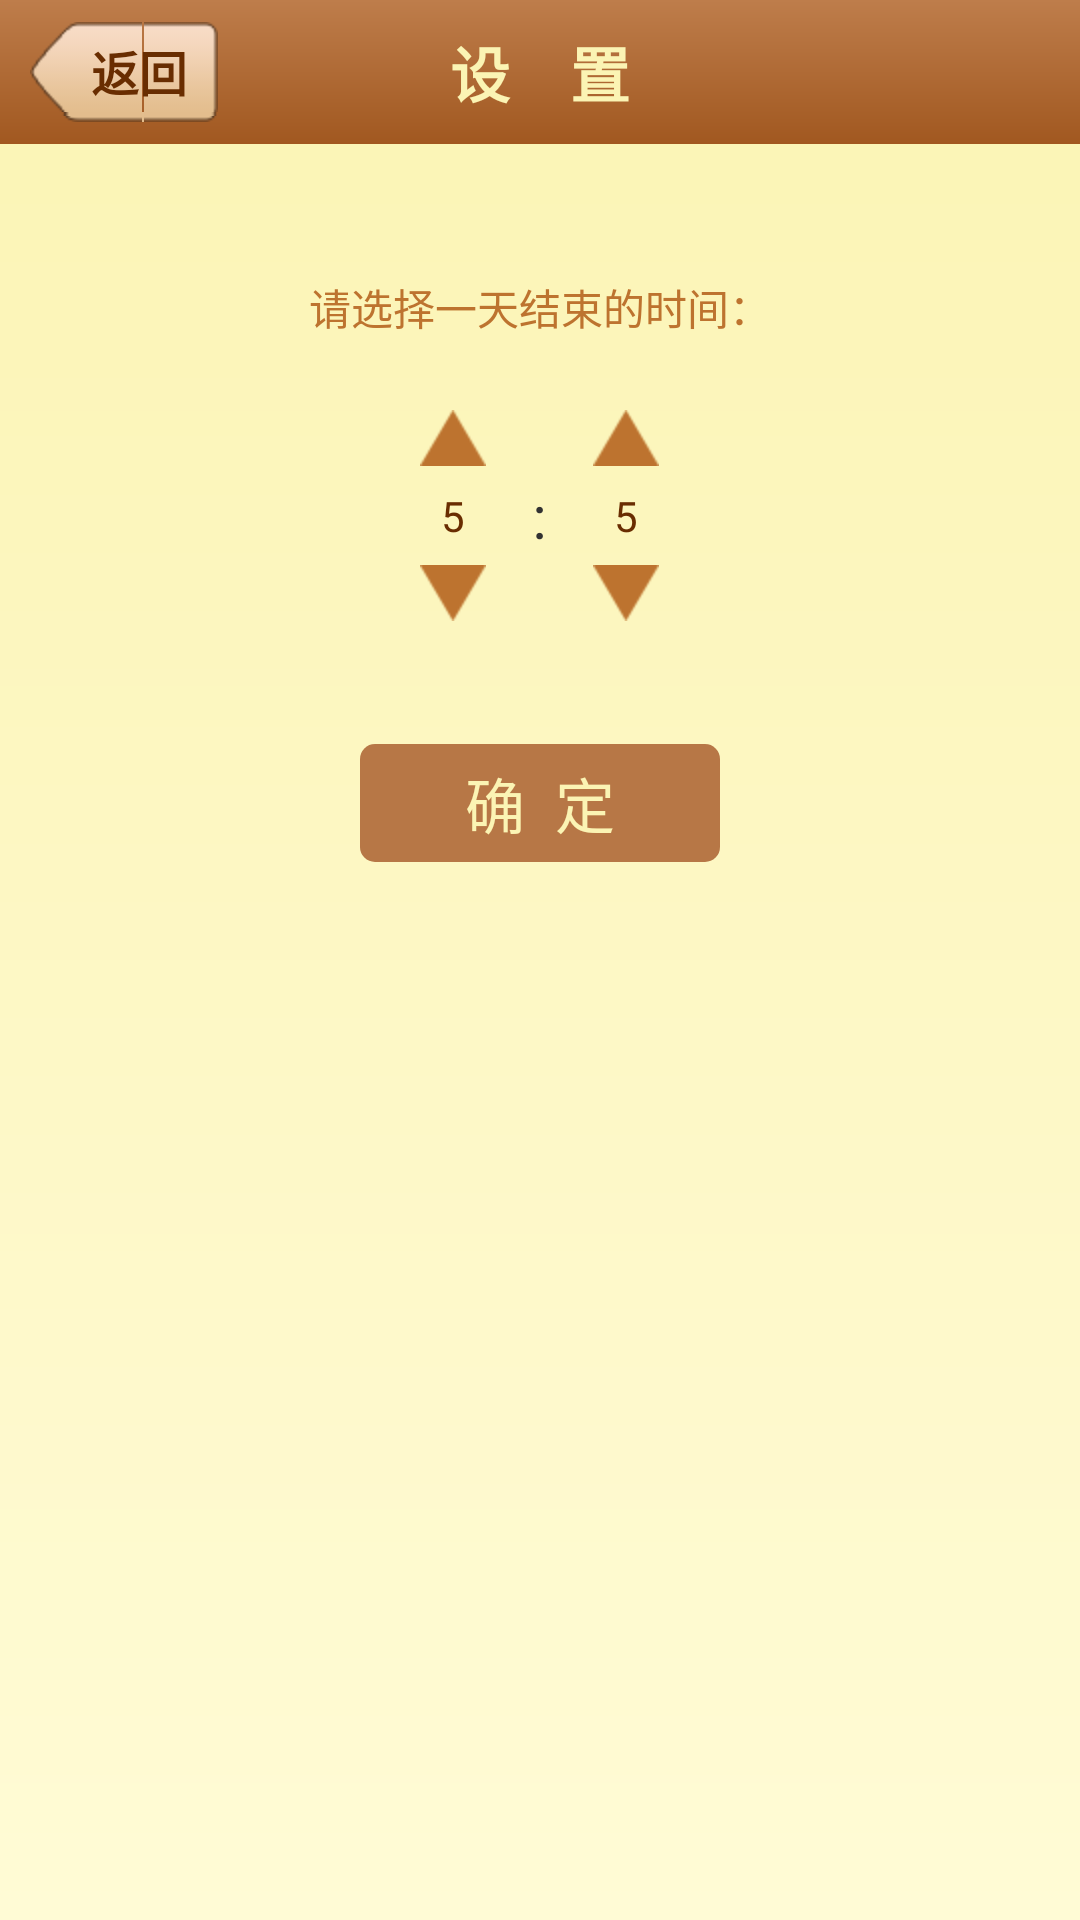

Screen size 1080×1920. Icon name, then its box in pixels as (x1, y1, x2, y2):
decrease: (420, 565, 486, 621), (593, 565, 659, 621)
increase: (420, 410, 486, 466), (593, 410, 659, 466)
